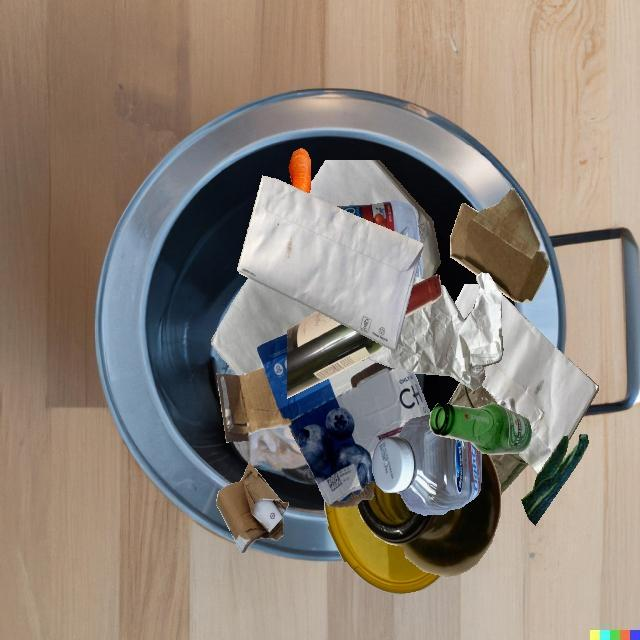biowaste: (521, 434, 589, 525), (288, 148, 311, 194)
cardboard: (216, 333, 430, 508), (450, 189, 550, 303), (216, 462, 289, 554)
glass: (357, 453, 500, 576), (287, 311, 384, 398), (429, 403, 532, 455), (490, 452, 529, 495), (447, 382, 498, 409)
paper: (237, 175, 424, 349), (481, 294, 599, 474), (366, 273, 503, 390), (309, 160, 441, 280), (211, 278, 317, 375)
plastic: (324, 499, 441, 595), (372, 414, 481, 515), (336, 200, 420, 242)
